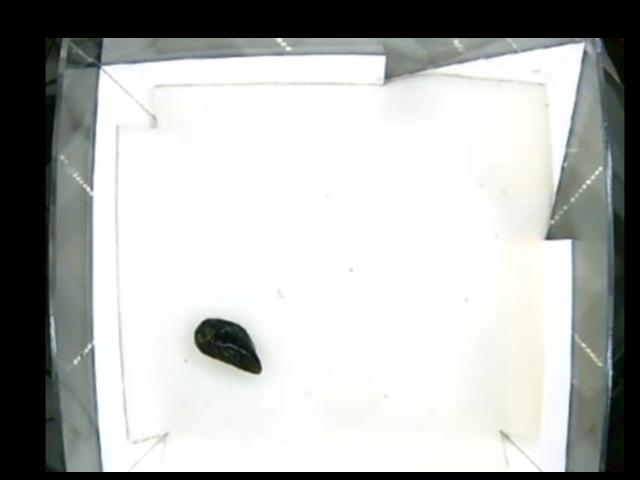Shell: (193, 318, 263, 373)
